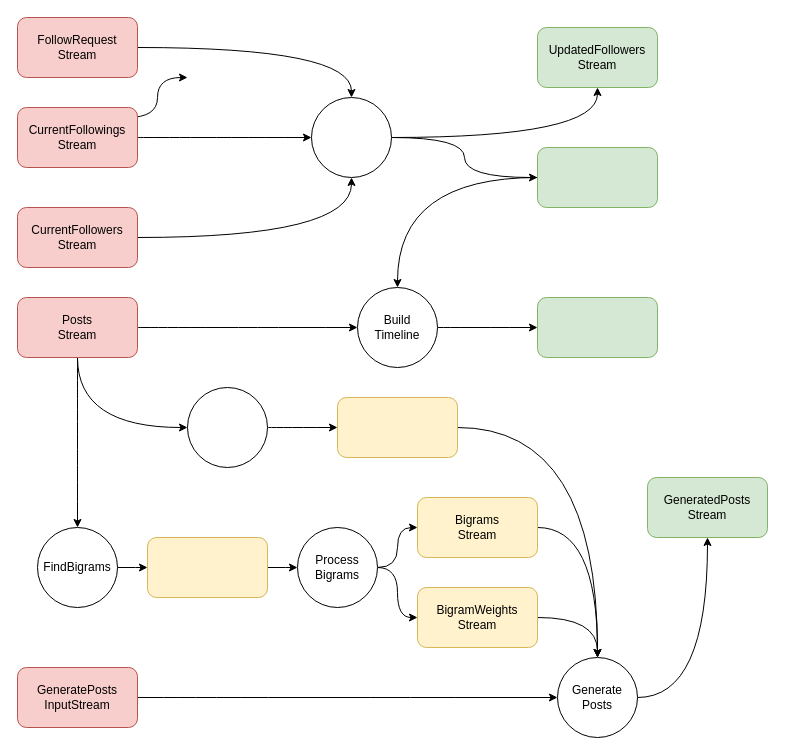
The diagram is 785 pixels wide and 755 high, and some of its shapes have lost their labels. Here are the shapes that lost their labels. From the top down, the centre of each, then its label:
At (x=351, y=137): "Update Follows".
At (x=597, y=177): "UpdatedFollowings Stream".
At (x=597, y=327): "Timelines Stream".
At (x=227, y=427): "Build Personal Dictionary".
At (x=397, y=427): "PersonalDictionary Stream".
At (x=207, y=567): "NewBigrams Stream".
